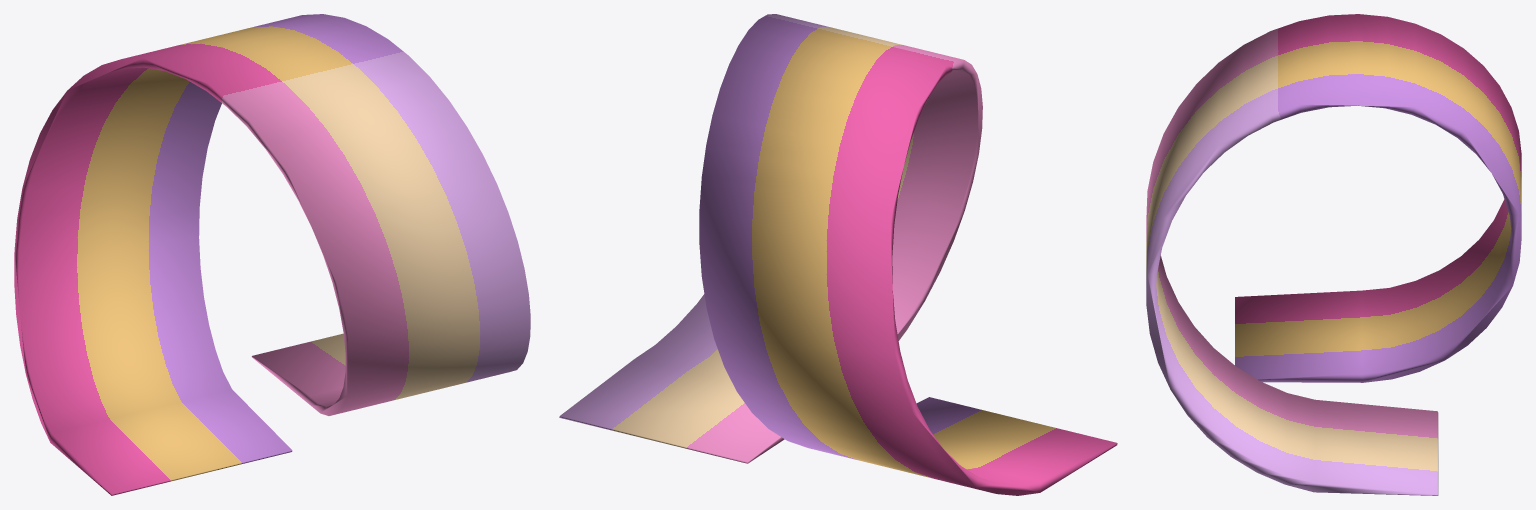
The model's file is loop.fbx.
3 views of the same model, side by side, from view 1: azimuth 30°, elevation 25°; view 2: azimuth 150°, elevation 25°; view 3: azimuth 270°, elevation 25° (orthographic). The views are drawn at different scales.
Visible parts, largest first — view 1: Plane; view 2: Plane; view 3: Plane.
Part boxes in pixels (x1=…): Plane: x1=14, y1=14, x2=530, y2=495; Plane: x1=559, y1=14, x2=1117, y2=495; Plane: x1=1146, y1=14, x2=1521, y2=495.
Size of the model in its own units: 2673 by 2148 by 2148.
